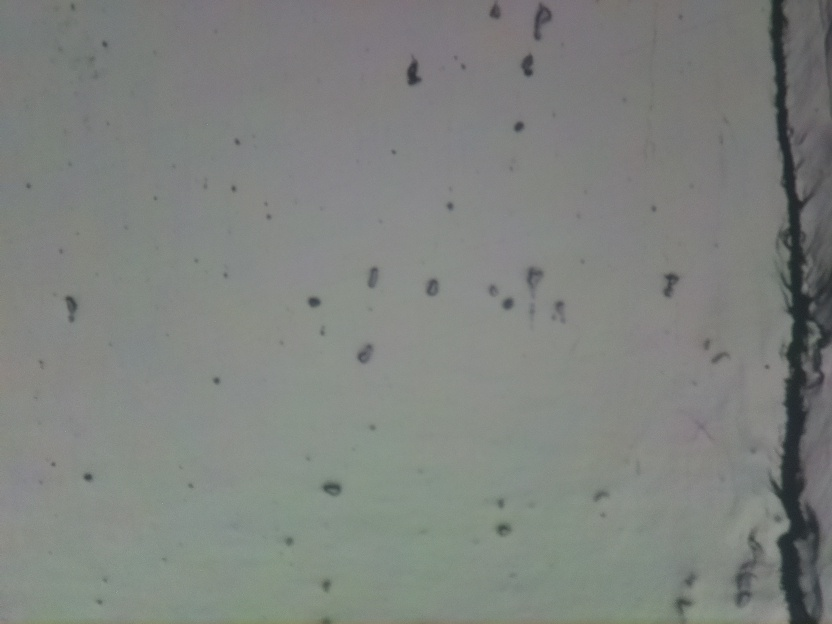crack: (757, 0, 832, 624)
